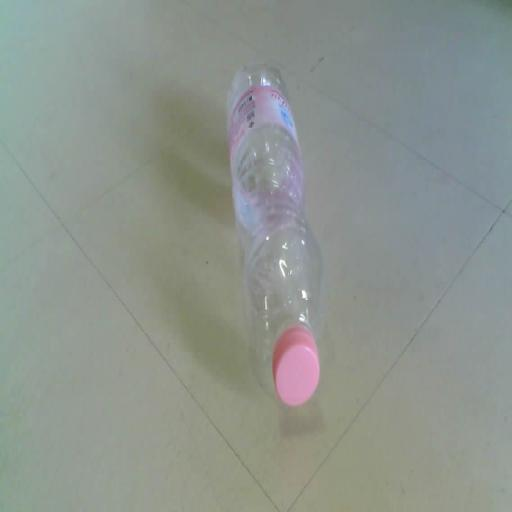bottle: (226, 65, 322, 408)
